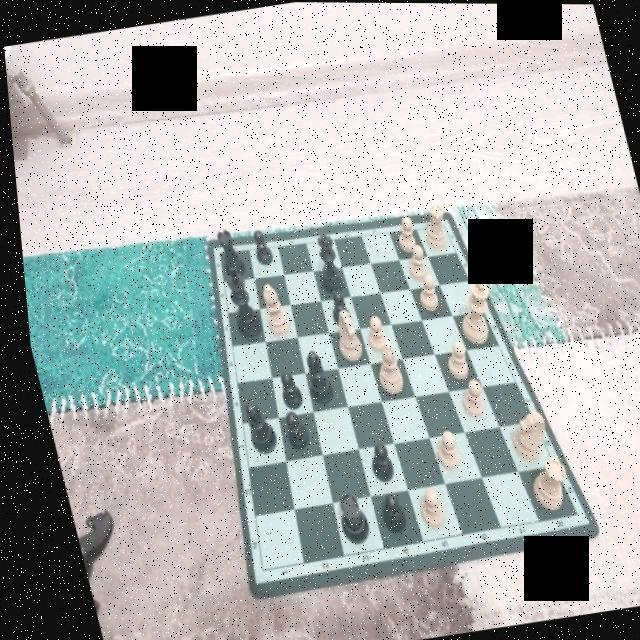chess-table-corners: (559, 504, 575, 524), (207, 244, 223, 261), (244, 564, 260, 578), (433, 219, 446, 232)
